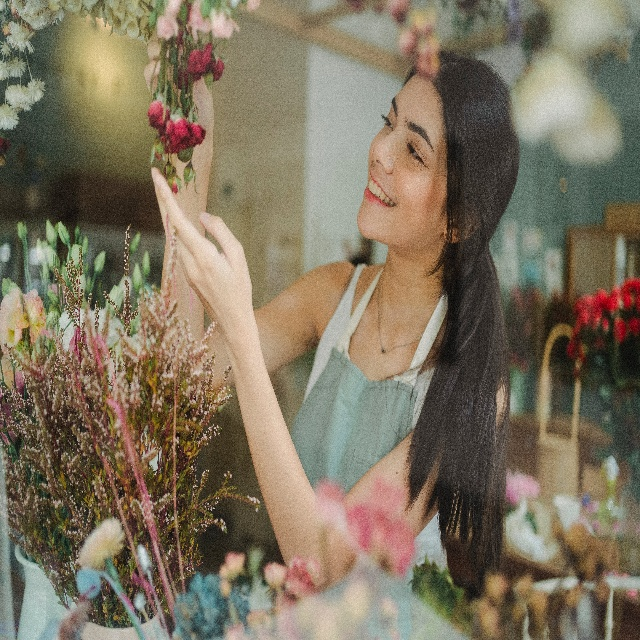Sin_guantes: (148, 167, 255, 324), (145, 0, 214, 175)
